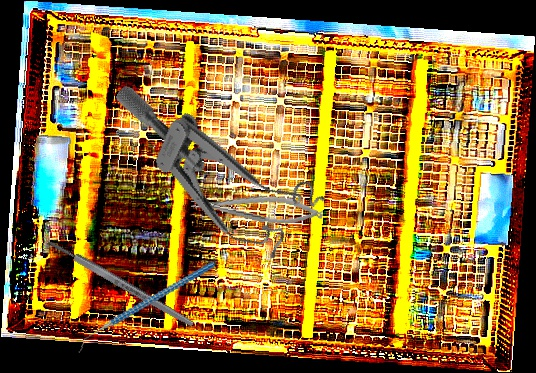Chopper: (66, 261, 227, 353)
Needle Holder: (189, 186, 325, 230)
Scalpel Handle: (47, 237, 195, 330)
Speculum: (82, 84, 334, 268)
